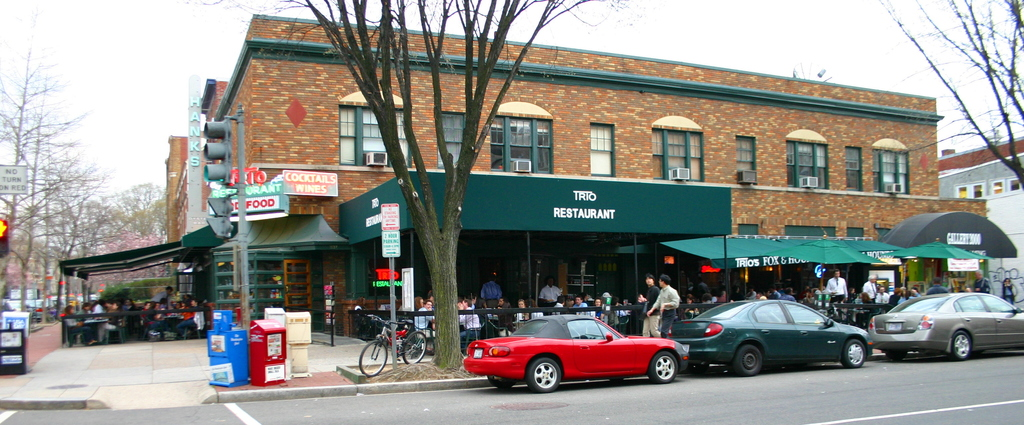Car: (465, 308, 693, 397), (668, 298, 873, 377), (868, 289, 1023, 361), (3, 292, 98, 321)
